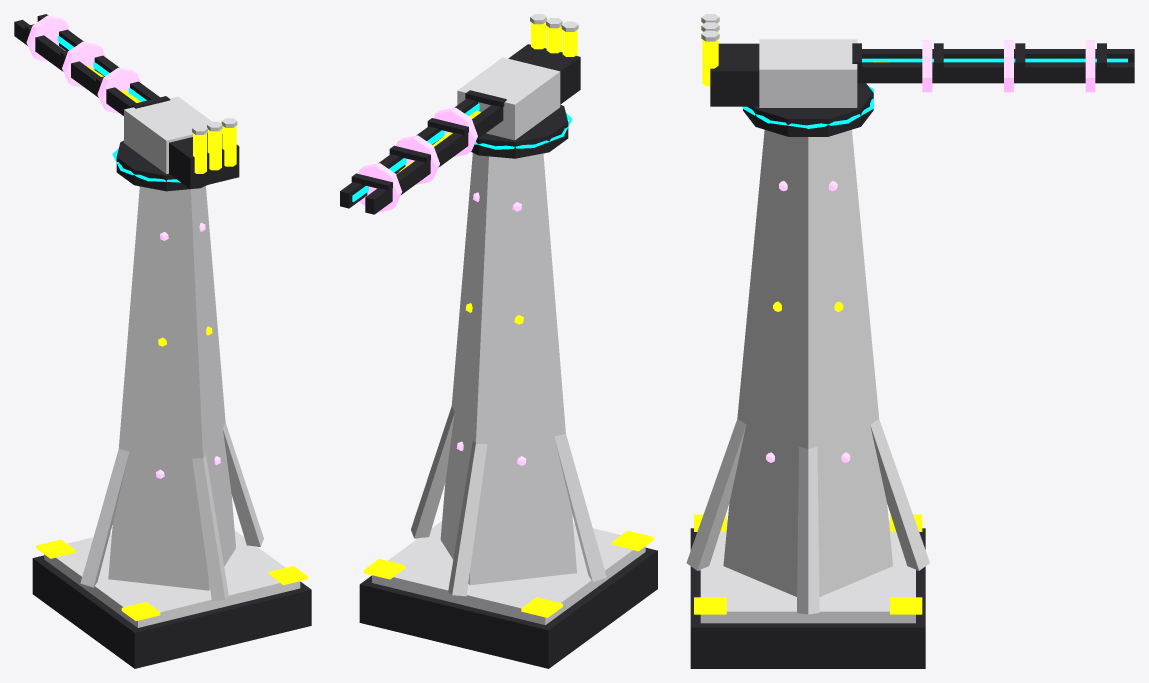
File: RailspikeTower.fbx
The picture shows the model from 3 angles, left to right: view 1: azimuth 30°, elevation 25°; view 2: azimuth 150°, elevation 25°; view 3: azimuth 270°, elevation 25°; orthographic projection. The views are drawn at different scales.
Parts seen in each view (by area): view 1: Rail_Tower, Rail_Base, Rail_BaseTop, Rail_Cradle, Rail_Buttress3, Rail_Buttress2, Rail_Rail-1, Rail_Counterweight, Rail_Buttress0, Rail_Turntable, Rail_Coil2, Rail_Coil1 (+8 smaller); view 2: Rail_Tower, Rail_Base, Rail_BaseTop, Rail_Cradle, Rail_Buttress1, Rail_Rail-1, Rail_Buttress2, Rail_Turntable, Rail_Buttress0, Rail_Counterweight, Rail_Rail1, Rail_Coil2 (+5 smaller); view 3: Rail_Tower, Rail_Base, Rail_BaseTop, Rail_Cradle, Rail_Rail1, Rail_Buttress0, Rail_Turntable, Rail_Counterweight, Rail_Buttress3, Rail_Buttress1, Rail_Rail-1, Rail_RailGlow-1.
Boxes of the visible parts, box(x1,y1,x2,y2) form: Rail_Tower: box(108, 186, 235, 590); Rail_Base: box(32, 555, 311, 668); Rail_BaseTop: box(44, 530, 300, 627); Rail_Cradle: box(124, 96, 211, 173); Rail_Buttress3: box(192, 455, 228, 600); Rail_Buttress2: box(80, 449, 129, 587); Rail_Rail-1: box(14, 19, 136, 115); Rail_Counterweight: box(169, 133, 239, 188); Rail_Buttress0: box(223, 423, 263, 546); Rail_Turntable: box(116, 140, 206, 191); Rail_Coil2: box(26, 15, 70, 61); Rail_Coil1: box(62, 41, 105, 87); Rail_Tower: box(440, 153, 576, 585); Rail_Base: box(359, 547, 657, 668); Rail_BaseTop: box(372, 521, 645, 625); Rail_Cradle: box(457, 57, 560, 140); Rail_Buttress1: box(448, 441, 487, 596); Rail_Rail-1: box(365, 105, 503, 214); Rail_Buttress2: box(554, 433, 606, 581); Rail_Turntable: box(471, 104, 568, 158); Rail_Buttress0: box(411, 406, 454, 538); Rail_Counterweight: box(508, 44, 580, 104); Rail_Rail1: box(340, 98, 477, 208); Rail_Coil2: box(358, 163, 402, 212); Rail_Tower: box(723, 129, 892, 596); Rail_Base: box(690, 528, 925, 668); Rail_BaseTop: box(700, 520, 915, 623); Rail_Cradle: box(759, 39, 857, 107); Rail_Rail1: box(857, 62, 1134, 83); Rail_Buttress0: box(797, 447, 819, 614); Rail_Turntable: box(743, 83, 873, 136); Rail_Counterweight: box(710, 43, 759, 106); Rail_Buttress3: box(686, 419, 746, 570); Rail_Buttress1: box(870, 419, 929, 570); Rail_Rail-1: box(862, 49, 1134, 62); Rail_RailGlow-1: box(862, 58, 1127, 62).
Bounding box in the file's own units: 0.7469 × 2.01 × 1.37.
